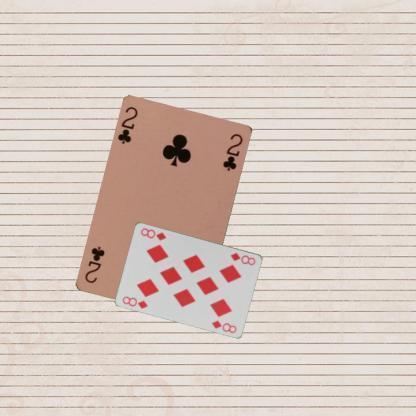2c: (115, 104, 139, 146)
8d: (228, 250, 257, 266), (120, 294, 149, 310)
